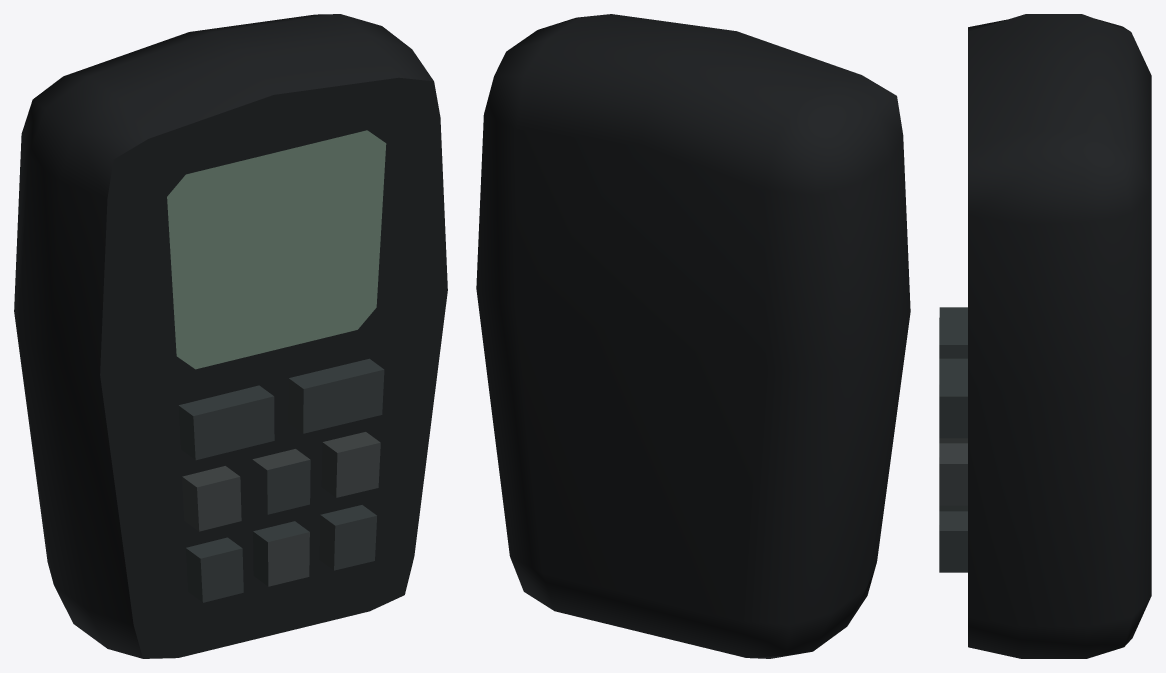
File: Item_OldPhone_Mesh.fbx
3 renders of one model, left to right at view 1: azimuth 30°, elevation 25°; view 2: azimuth 150°, elevation 25°; view 3: azimuth 270°, elevation 25°, orthographic. The views are drawn at different scales.
Parts seen in each view (by area): view 1: Item_OldPhone_Mesh; view 2: Item_OldPhone_Mesh; view 3: Item_OldPhone_Mesh.
Part boxes in pixels (box(x1,y1,x2,y2)): Item_OldPhone_Mesh: box(14, 14, 447, 658); Item_OldPhone_Mesh: box(476, 14, 910, 658); Item_OldPhone_Mesh: box(939, 14, 1151, 658).
Size of the model in its own units: 17.39 by 24.71 by 8.61.
